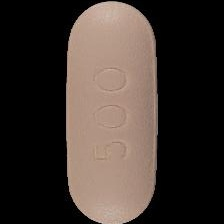67296-0372: (0, 0, 224, 224)
